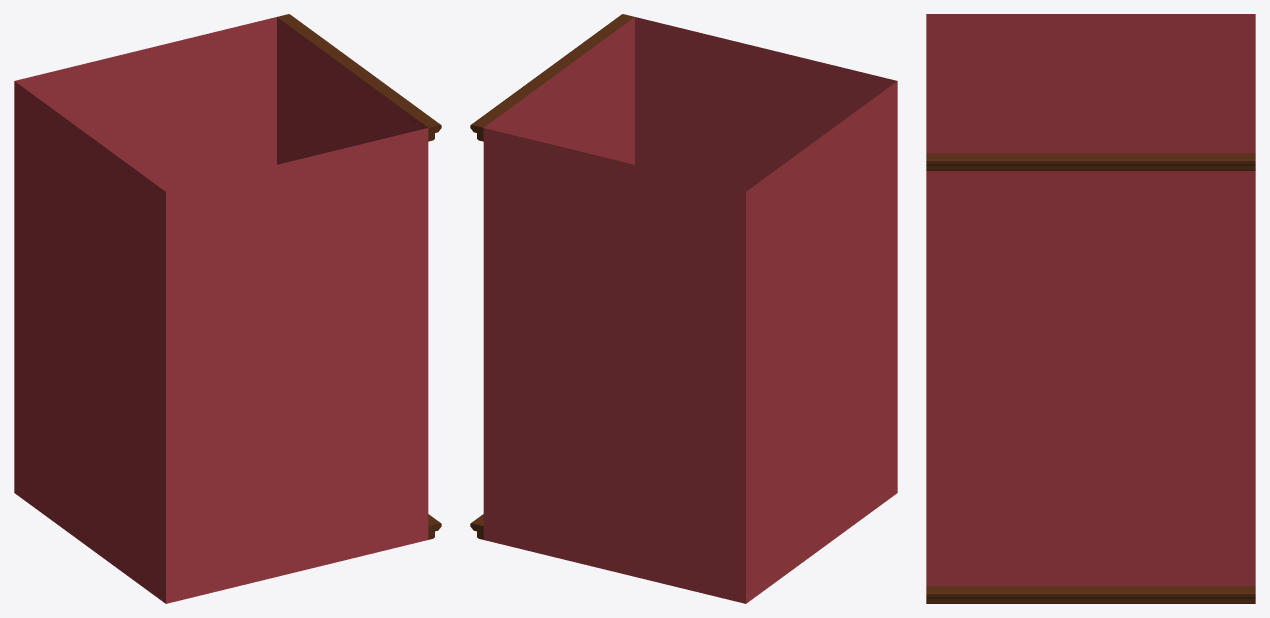
Rendered from Stucco top 4x4.fbx.
3 renders of one model, left to right at view 1: azimuth 30°, elevation 25°; view 2: azimuth 150°, elevation 25°; view 3: azimuth 270°, elevation 25°, orthographic. The views are drawn at different scales.
Visible parts, largest first — view 1: Stucco top 4; view 2: Stucco top 4; view 3: Stucco top 4.
Part boxes in pixels (x1=…): Stucco top 4: x1=14, y1=14, x2=441, y2=603; Stucco top 4: x1=470, y1=14, x2=897, y2=603; Stucco top 4: x1=926, y1=14, x2=1255, y2=603.
Size of the model in its own units: 420 by 600 by 400.
